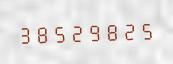eight: (34, 21, 50, 45), (102, 19, 118, 42)
five: (51, 21, 67, 44), (136, 18, 152, 41)
nine: (85, 20, 101, 43)
three: (17, 22, 33, 45)
two: (68, 20, 84, 44), (119, 18, 135, 42)
